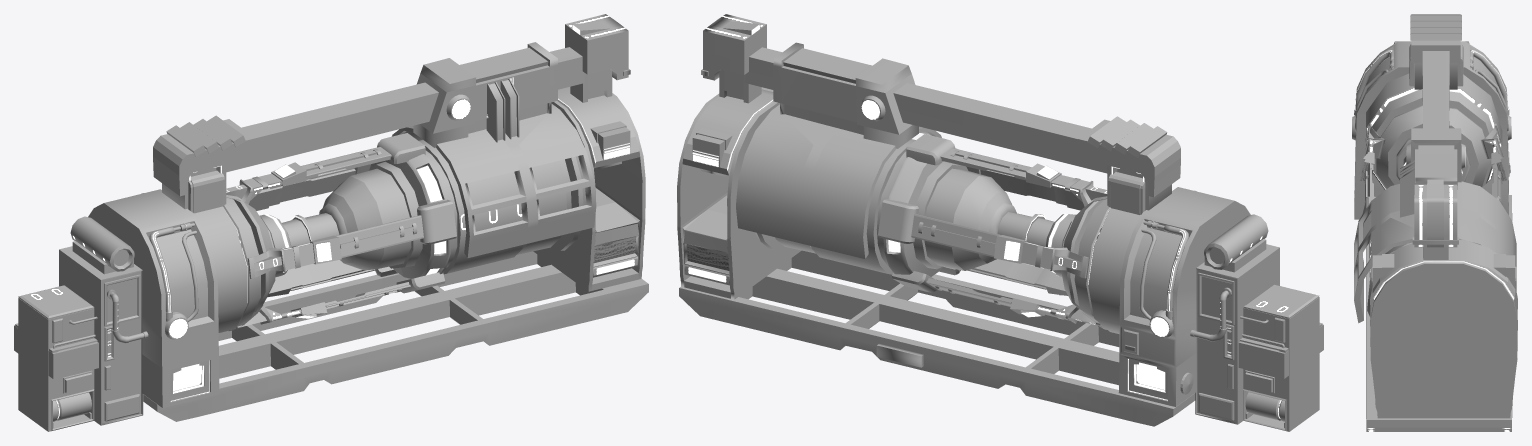
The model's file is KF_SM_Generator.fbx.
3 renders of one model, left to right at view 1: azimuth 30°, elevation 25°; view 2: azimuth 150°, elevation 25°; view 3: azimuth 270°, elevation 25°, orthographic. The views are drawn at different scales.
Parts seen in each view (by area): view 1: KF_SM_GeneratorTurbine; view 2: KF_SM_GeneratorTurbine; view 3: KF_SM_GeneratorTurbine.
Boxes of the visible parts, x1=… form: KF_SM_GeneratorTurbine: x1=14, y1=14, x2=648, y2=431; KF_SM_GeneratorTurbine: x1=677, y1=14, x2=1323, y2=431; KF_SM_GeneratorTurbine: x1=1352, y1=14, x2=1517, y2=431.
Bounding box in the file's own units: 2828 × 1204 × 738.
